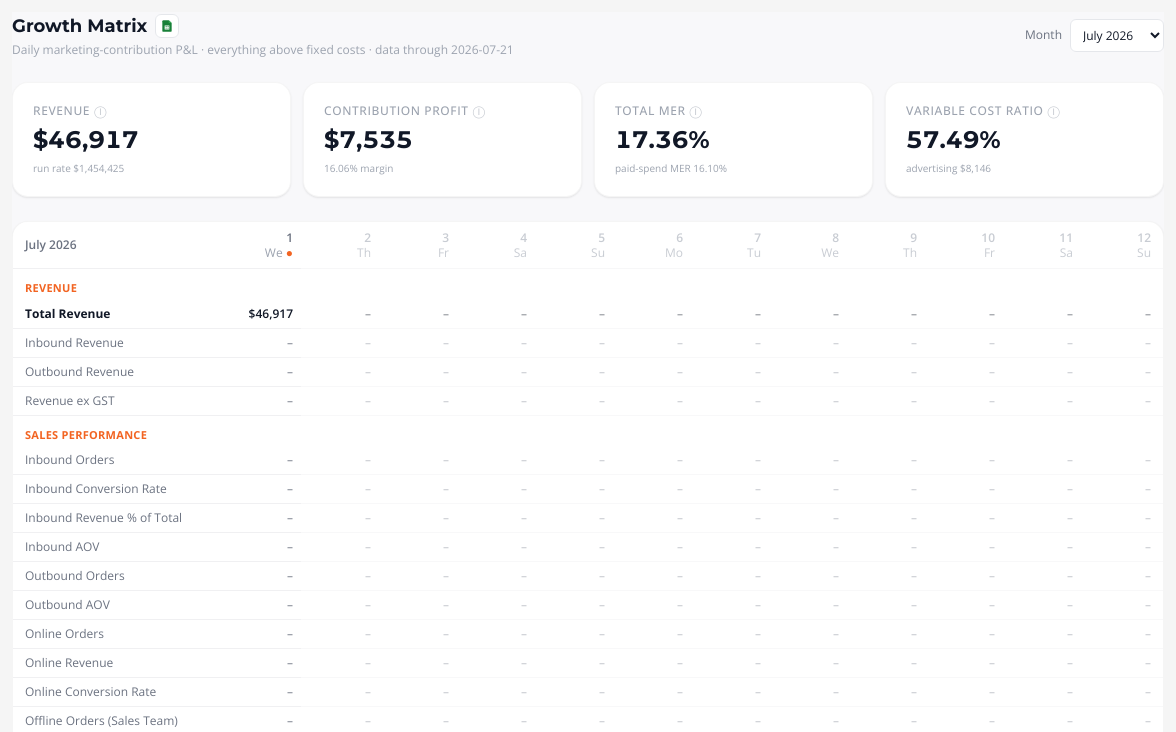
Test: switching month hides the run-rate column for complete months
This screenshot has width=1176, height=732.
Select "June 2026" in the dropdown named "Select month" at (1117, 35), box [1070,18,1164,52]
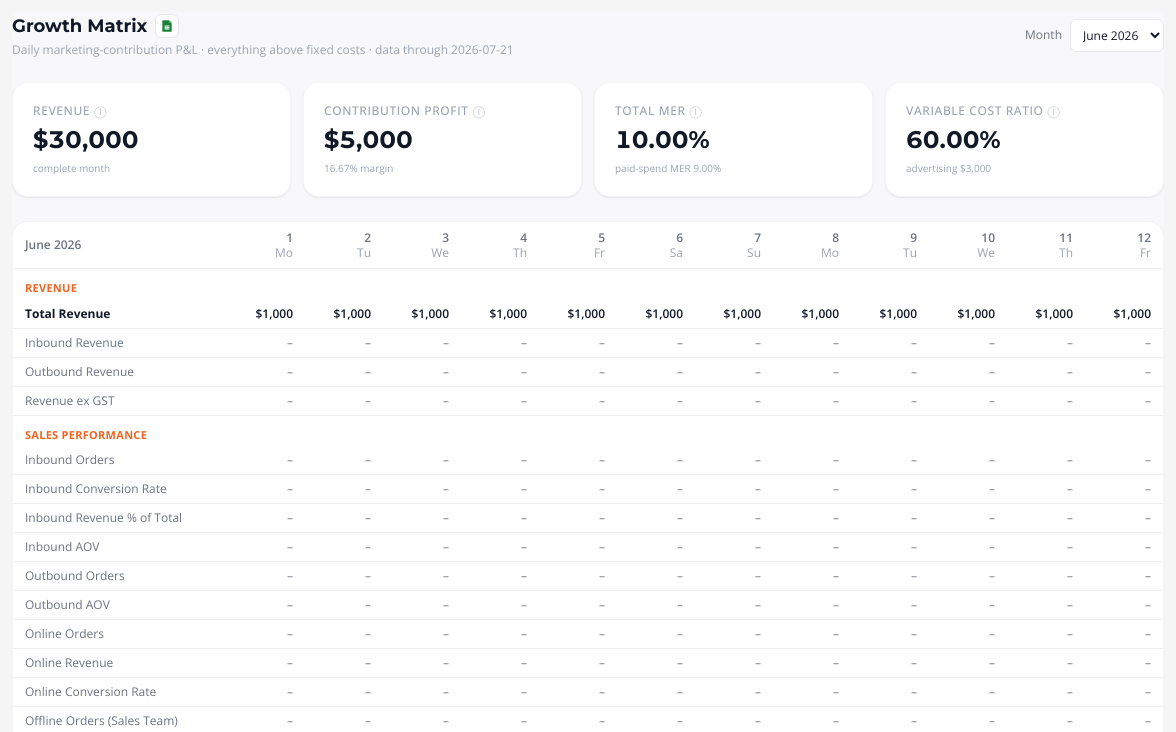
expect the text "run rate" is gone: met
expect the text "complete month" is shown: met, box [33,161,110,175]
